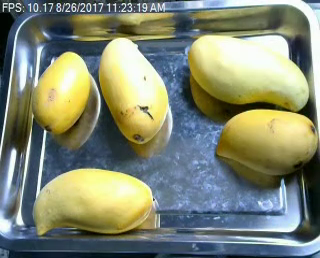Mango: (187, 33, 309, 111), (33, 168, 154, 235), (99, 37, 168, 143), (216, 108, 318, 175), (28, 51, 91, 136)
